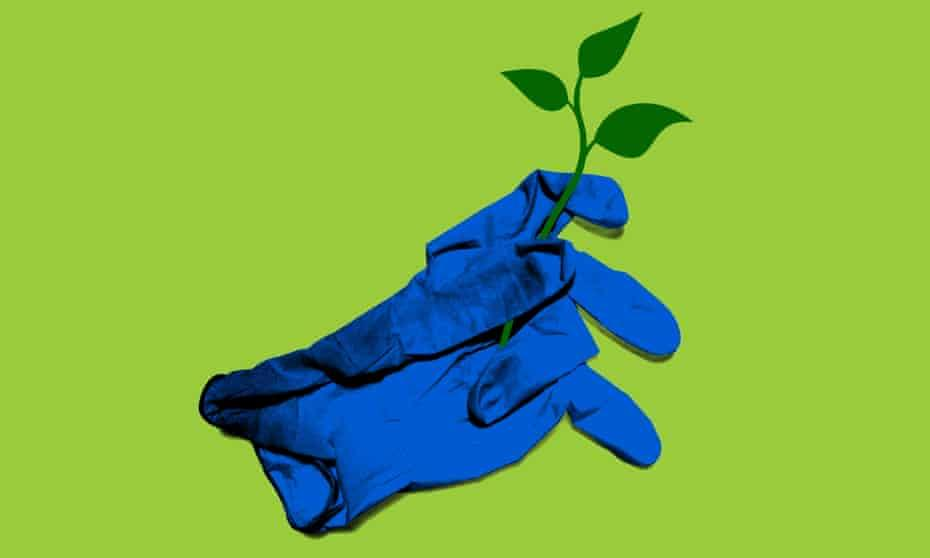gloves: (189, 168, 689, 538)
